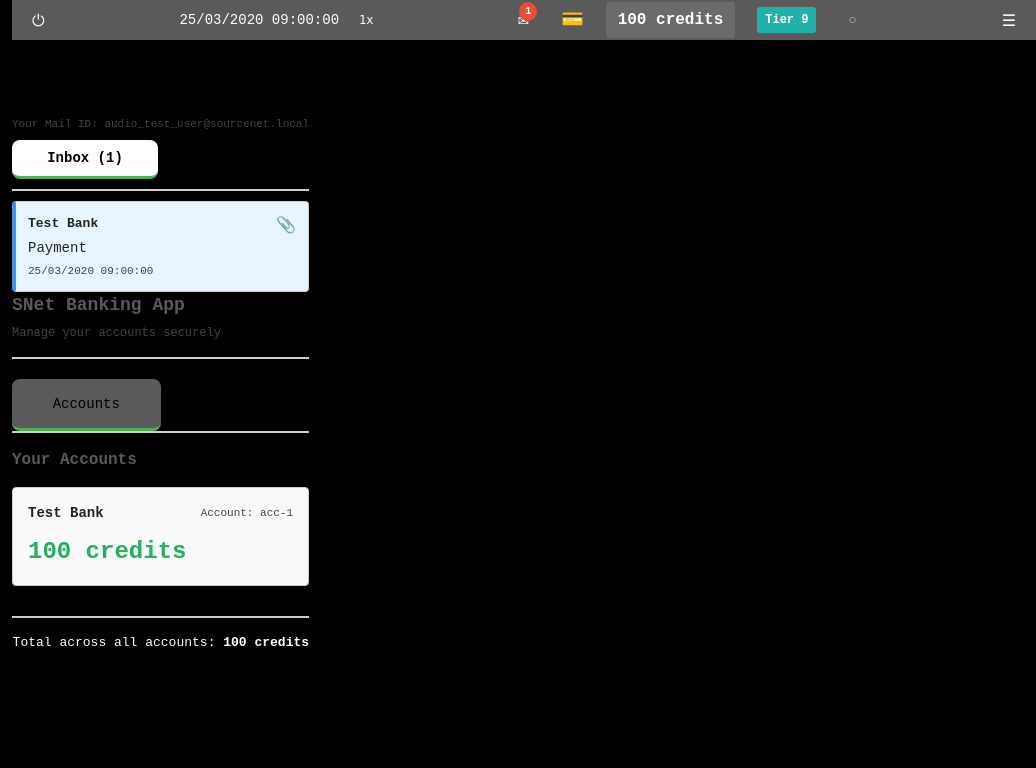
Scenario: Audio Notification Integration › should play audio notification when cheque is deposited
Expected: the text titled "Click to open Banking App" next to "Tier" reads "100 credits", [606,2,735,38]
# Click the message to open it
Click the text "Payment" at (57, 248), box [28,240,87,256]
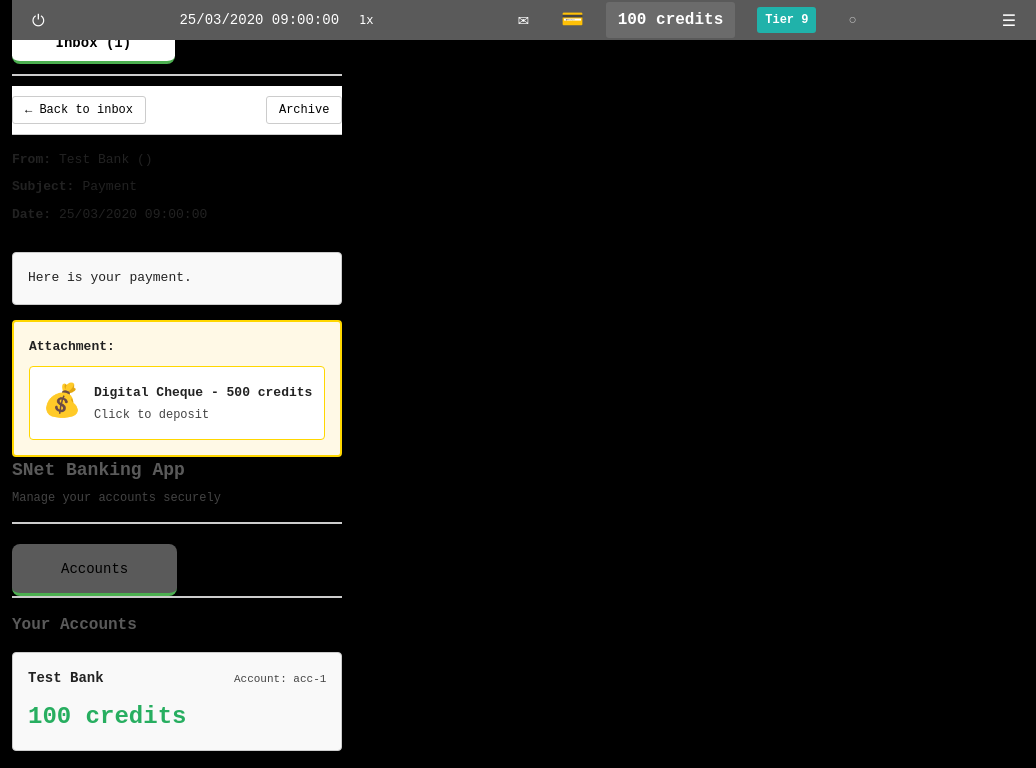
# Click the cheque to start deposit process
Click the text "Digital Cheque - 500 credits" at (203, 392), box [94,382,312,402]
(page scrolled)
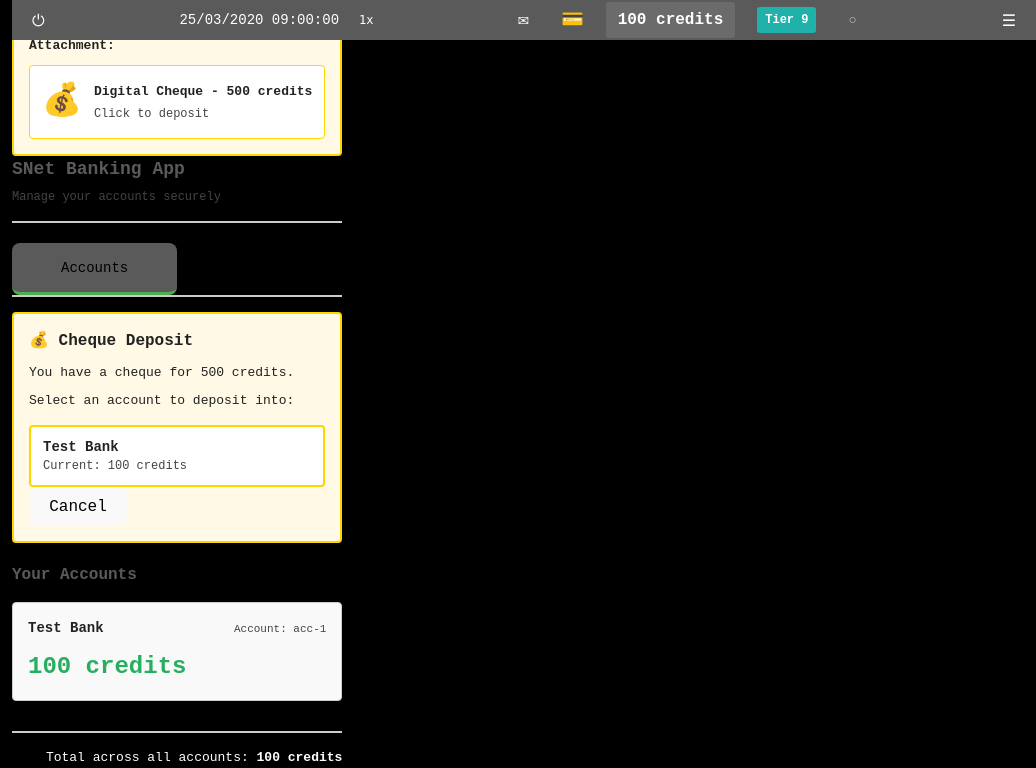
Now the text "💰 Cheque Deposit" is shown, box [29,332,193,350]
# Click account button to complete deposit (this triggers audio)
Click the button "Test Bank Current: 100 credits" at (177, 456), box [29,425,325,487]
(page scrolled)
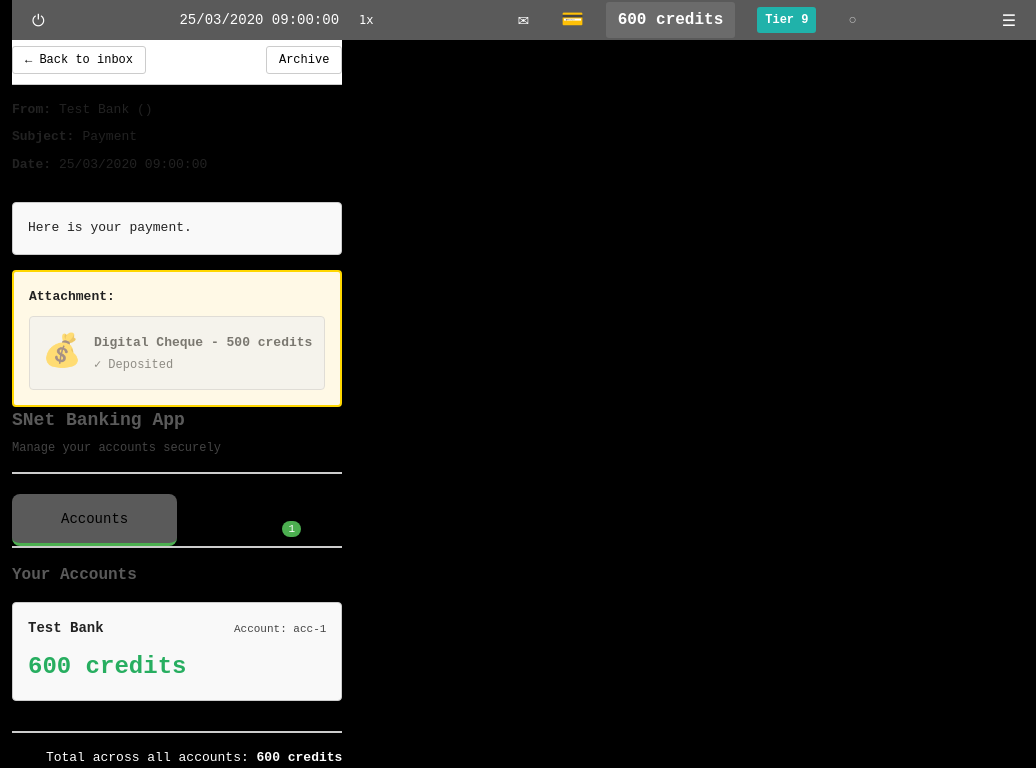
Now the text "✓ Deposited" is shown, box [94,358,173,372]
Now the text titled "Click to open Banking App" next to "Tier" reads "600 credits", box [606,2,735,38]
